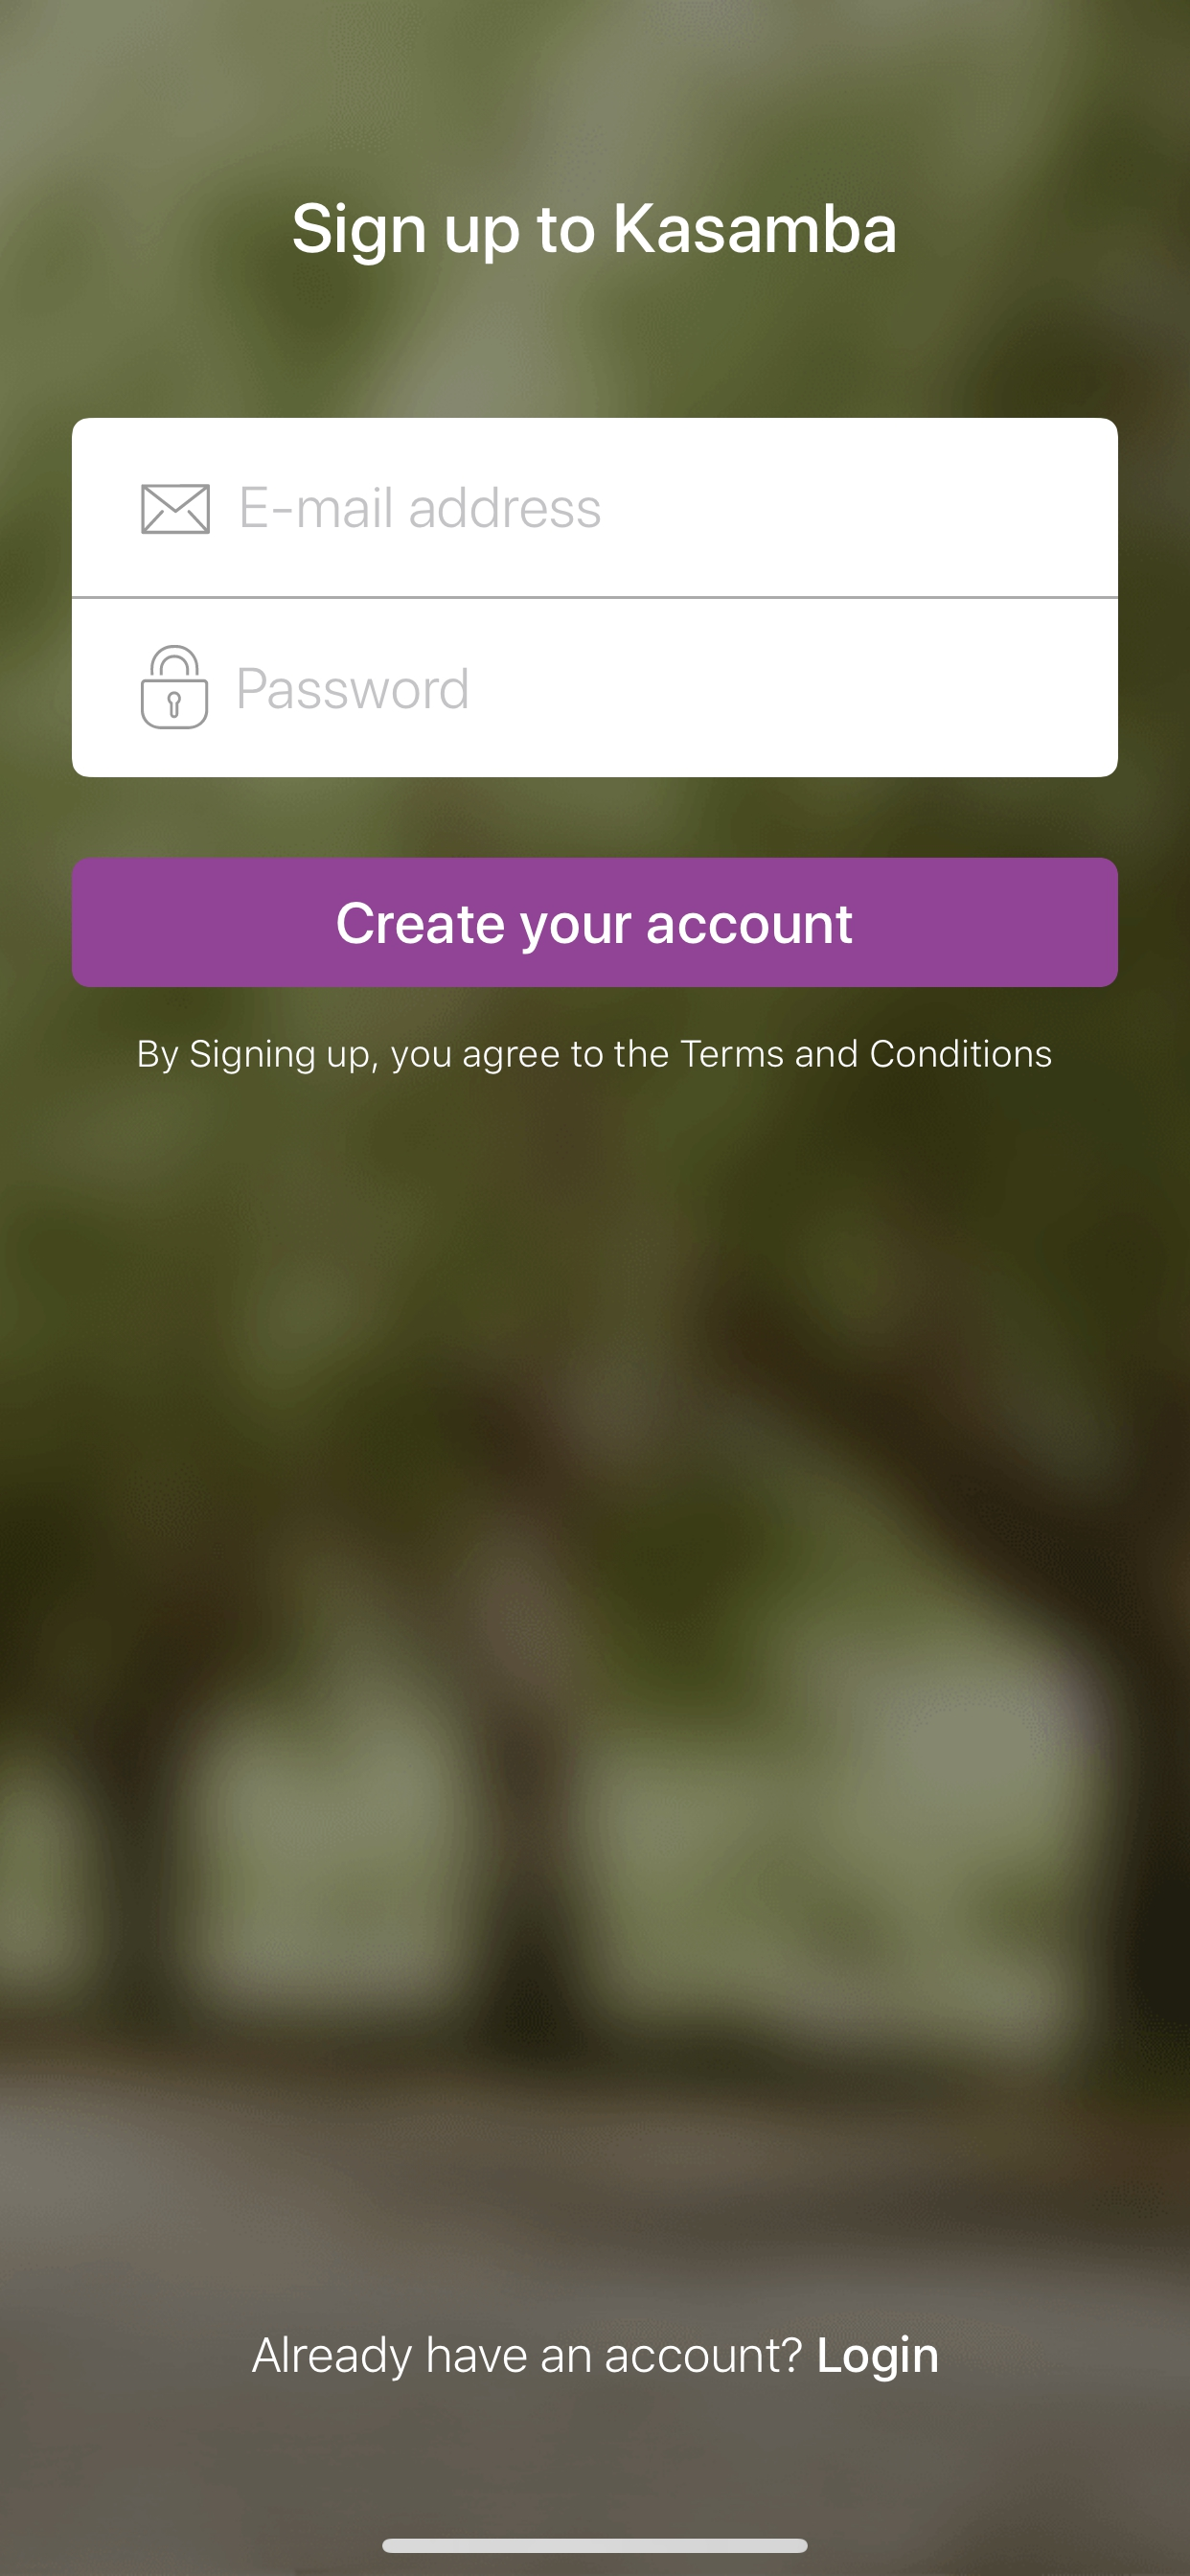BackgroundImage: (2, 2, 1190, 2576)
EditText: (72, 417, 1118, 596), (72, 600, 1118, 777)
Icon: (141, 646, 210, 729), (141, 485, 210, 536)
Text: (293, 202, 894, 266), (253, 2333, 937, 2382), (140, 1038, 1050, 1074), (242, 486, 600, 527), (240, 667, 467, 710)
TextButton: (71, 858, 1118, 987)
